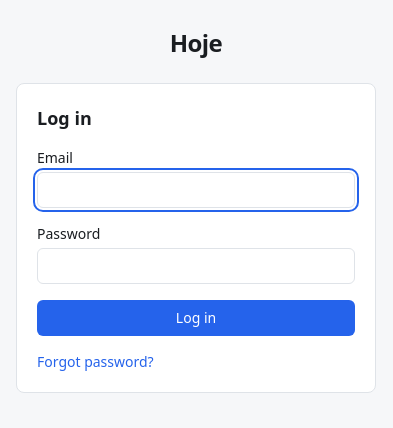
Test: login › shows an inline message for wrong credentials
This screenshot has width=393, height=428.
Type "ana@example.com" into the field labelled "Email".
click(196, 190); type("ana@example.com")  # box [37,172,355,208]
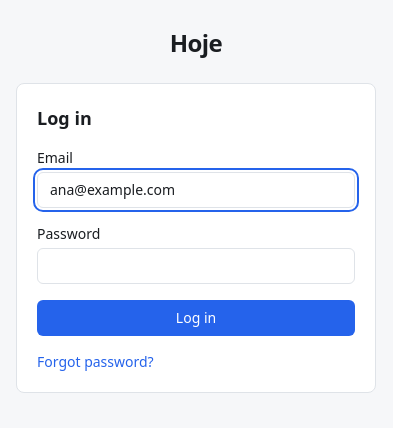
Type "nope" into the password field labelled "Password".
click(196, 266); type("nope")  # box [37,248,355,284]
Then press Enter
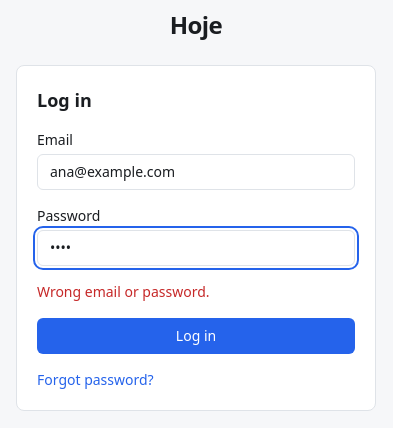
Expected: the message reads "Wrong email or password.", [37,282,210,301]
